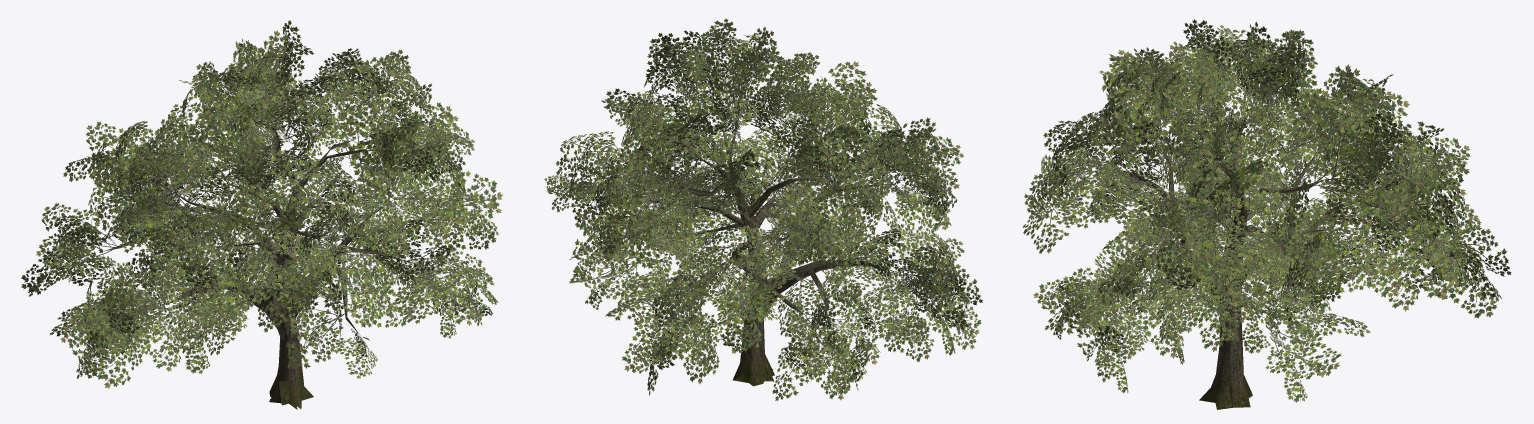
File: Tree0.fbx
3 views of the same model, side by side, from view 1: azimuth 30°, elevation 25°; view 2: azimuth 150°, elevation 25°; view 3: azimuth 270°, elevation 25° (orthographic). The views are drawn at different scales.
Parts seen in each view (by area): view 1: LV_Campagna_Tree_BT03_PM_HSH; view 2: LV_Campagna_Tree_BT03_PM_HSH; view 3: LV_Campagna_Tree_BT03_PM_HSH.
Boxes of the visible parts, x1,y1,x2,y2 form: LV_Campagna_Tree_BT03_PM_HSH: (21,20,502,409); LV_Campagna_Tree_BT03_PM_HSH: (544,18,982,401); LV_Campagna_Tree_BT03_PM_HSH: (1023,19,1511,409).
Bounding box in the file's own units: 5.45 × 4.28 × 5.12.
Materials: 2 (2 with a texture image).
